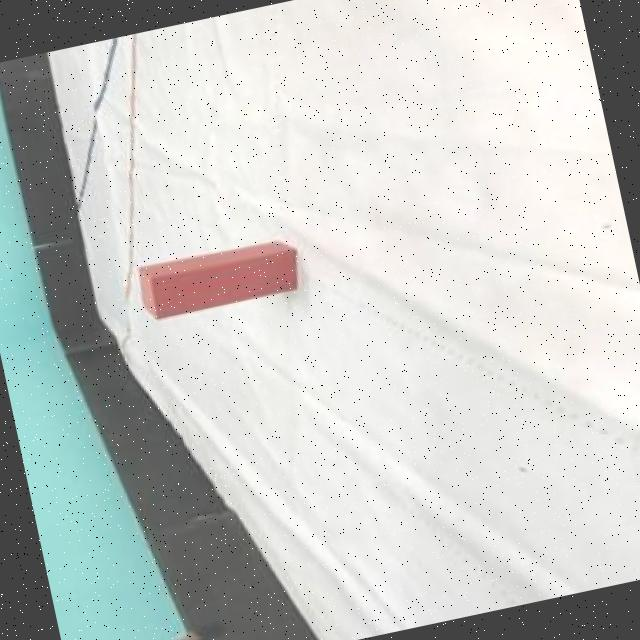redbox: (131, 233, 304, 324)
